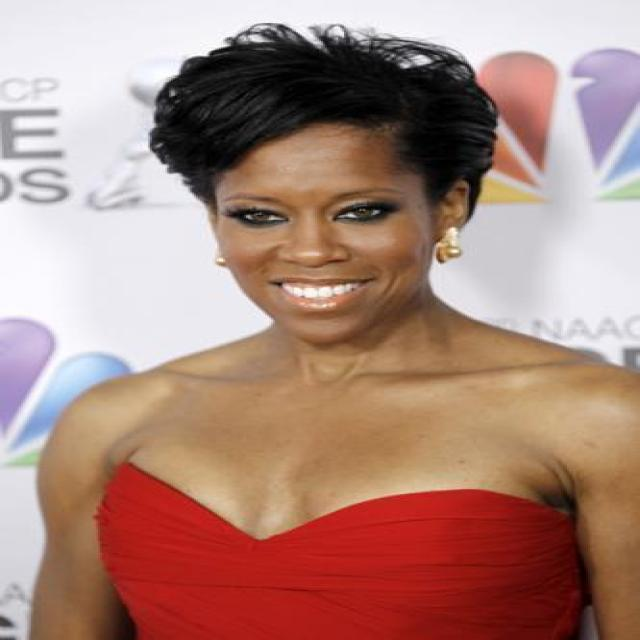0_rostro_limpio: (191, 80, 441, 346)
